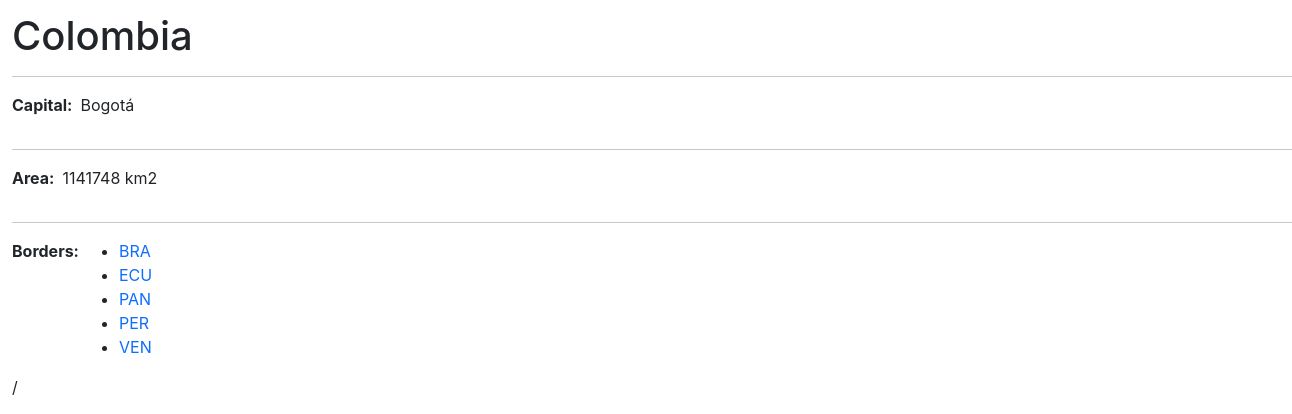
Test: CountryDetail › Borders take me to that country
Expected: the text with test id "location-display" reads "/", [12,377,18,397]
Click the link "BRA": (135, 251) [119,241,151,261]
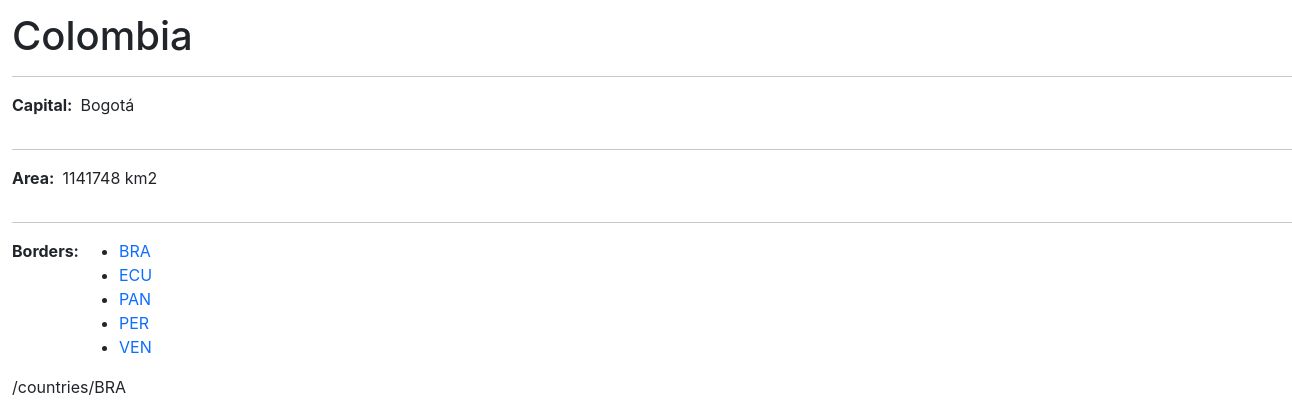
Expected: the text with test id "location-display" reads "/countries/BRA", [12,377,126,397]
